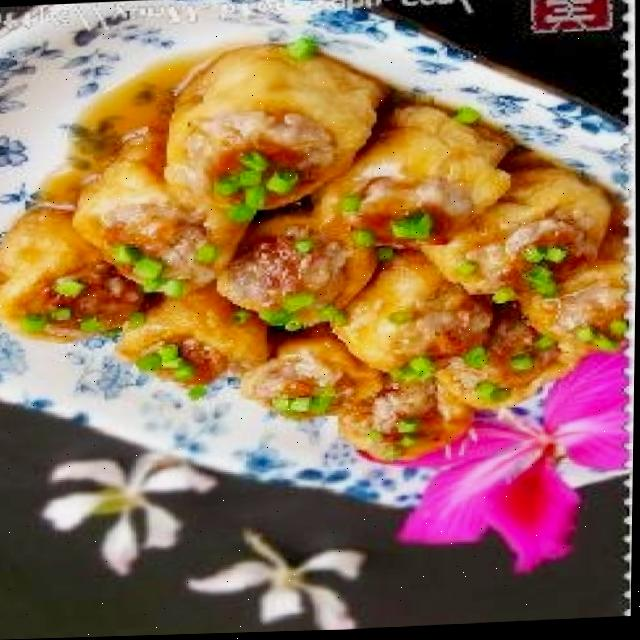豆腐料理: (0, 10, 619, 594)
